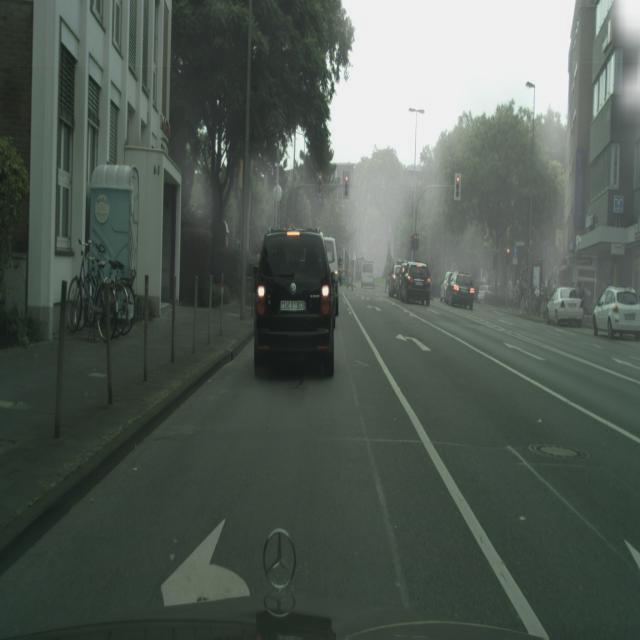bus: (253, 227, 336, 379), (592, 285, 640, 340), (547, 286, 584, 328), (398, 261, 431, 306), (322, 236, 339, 319), (446, 271, 475, 309), (439, 271, 457, 302)
car: (67, 238, 117, 341), (104, 260, 136, 337)
